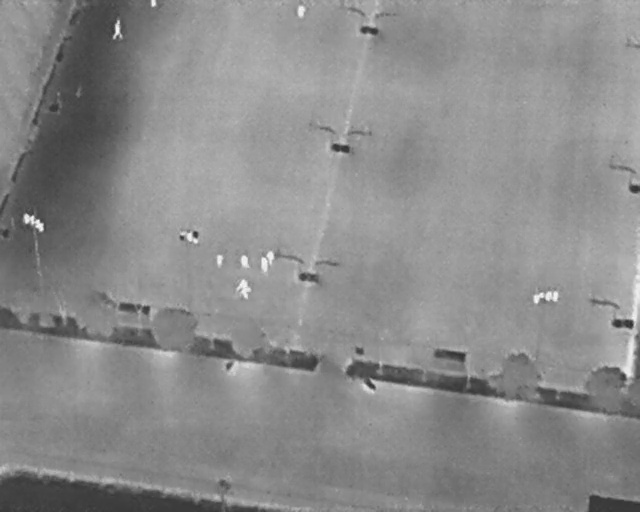Person: (112, 18, 123, 40), (296, 2, 307, 19), (240, 286, 252, 299), (266, 250, 275, 267), (240, 254, 250, 269), (237, 279, 248, 291), (261, 256, 269, 272), (216, 253, 224, 268), (150, 0, 157, 7)
